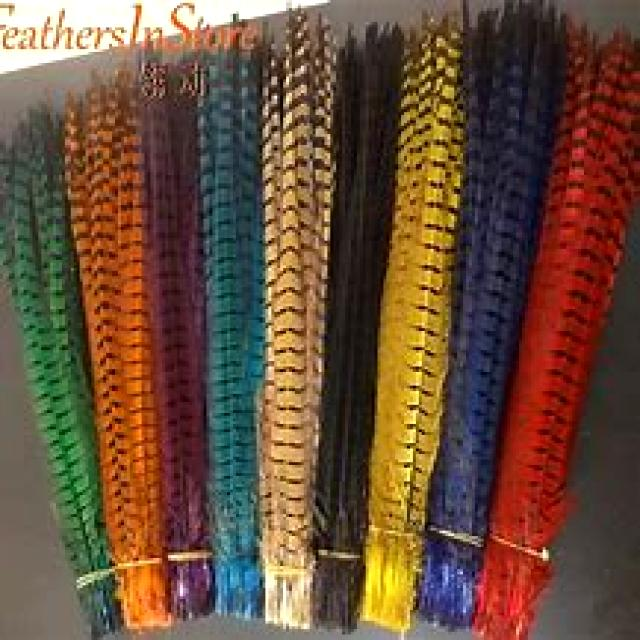Phasianus Colchicus: (0, 0, 640, 638)
